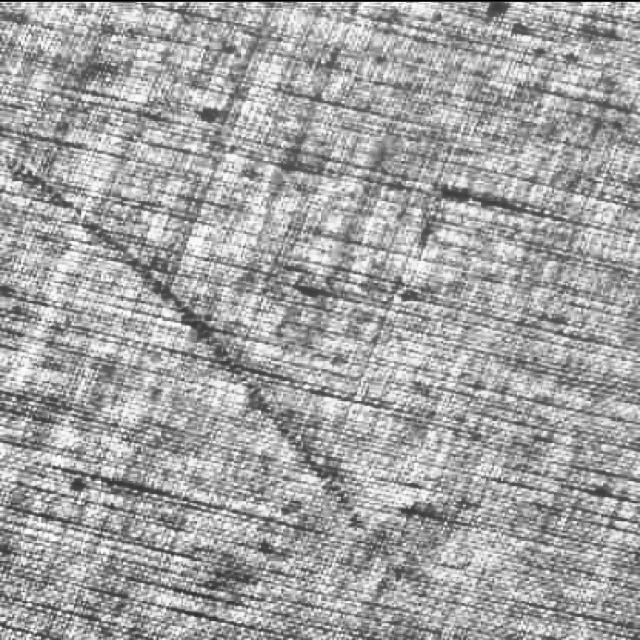thread_error: (0, 138, 436, 622)
